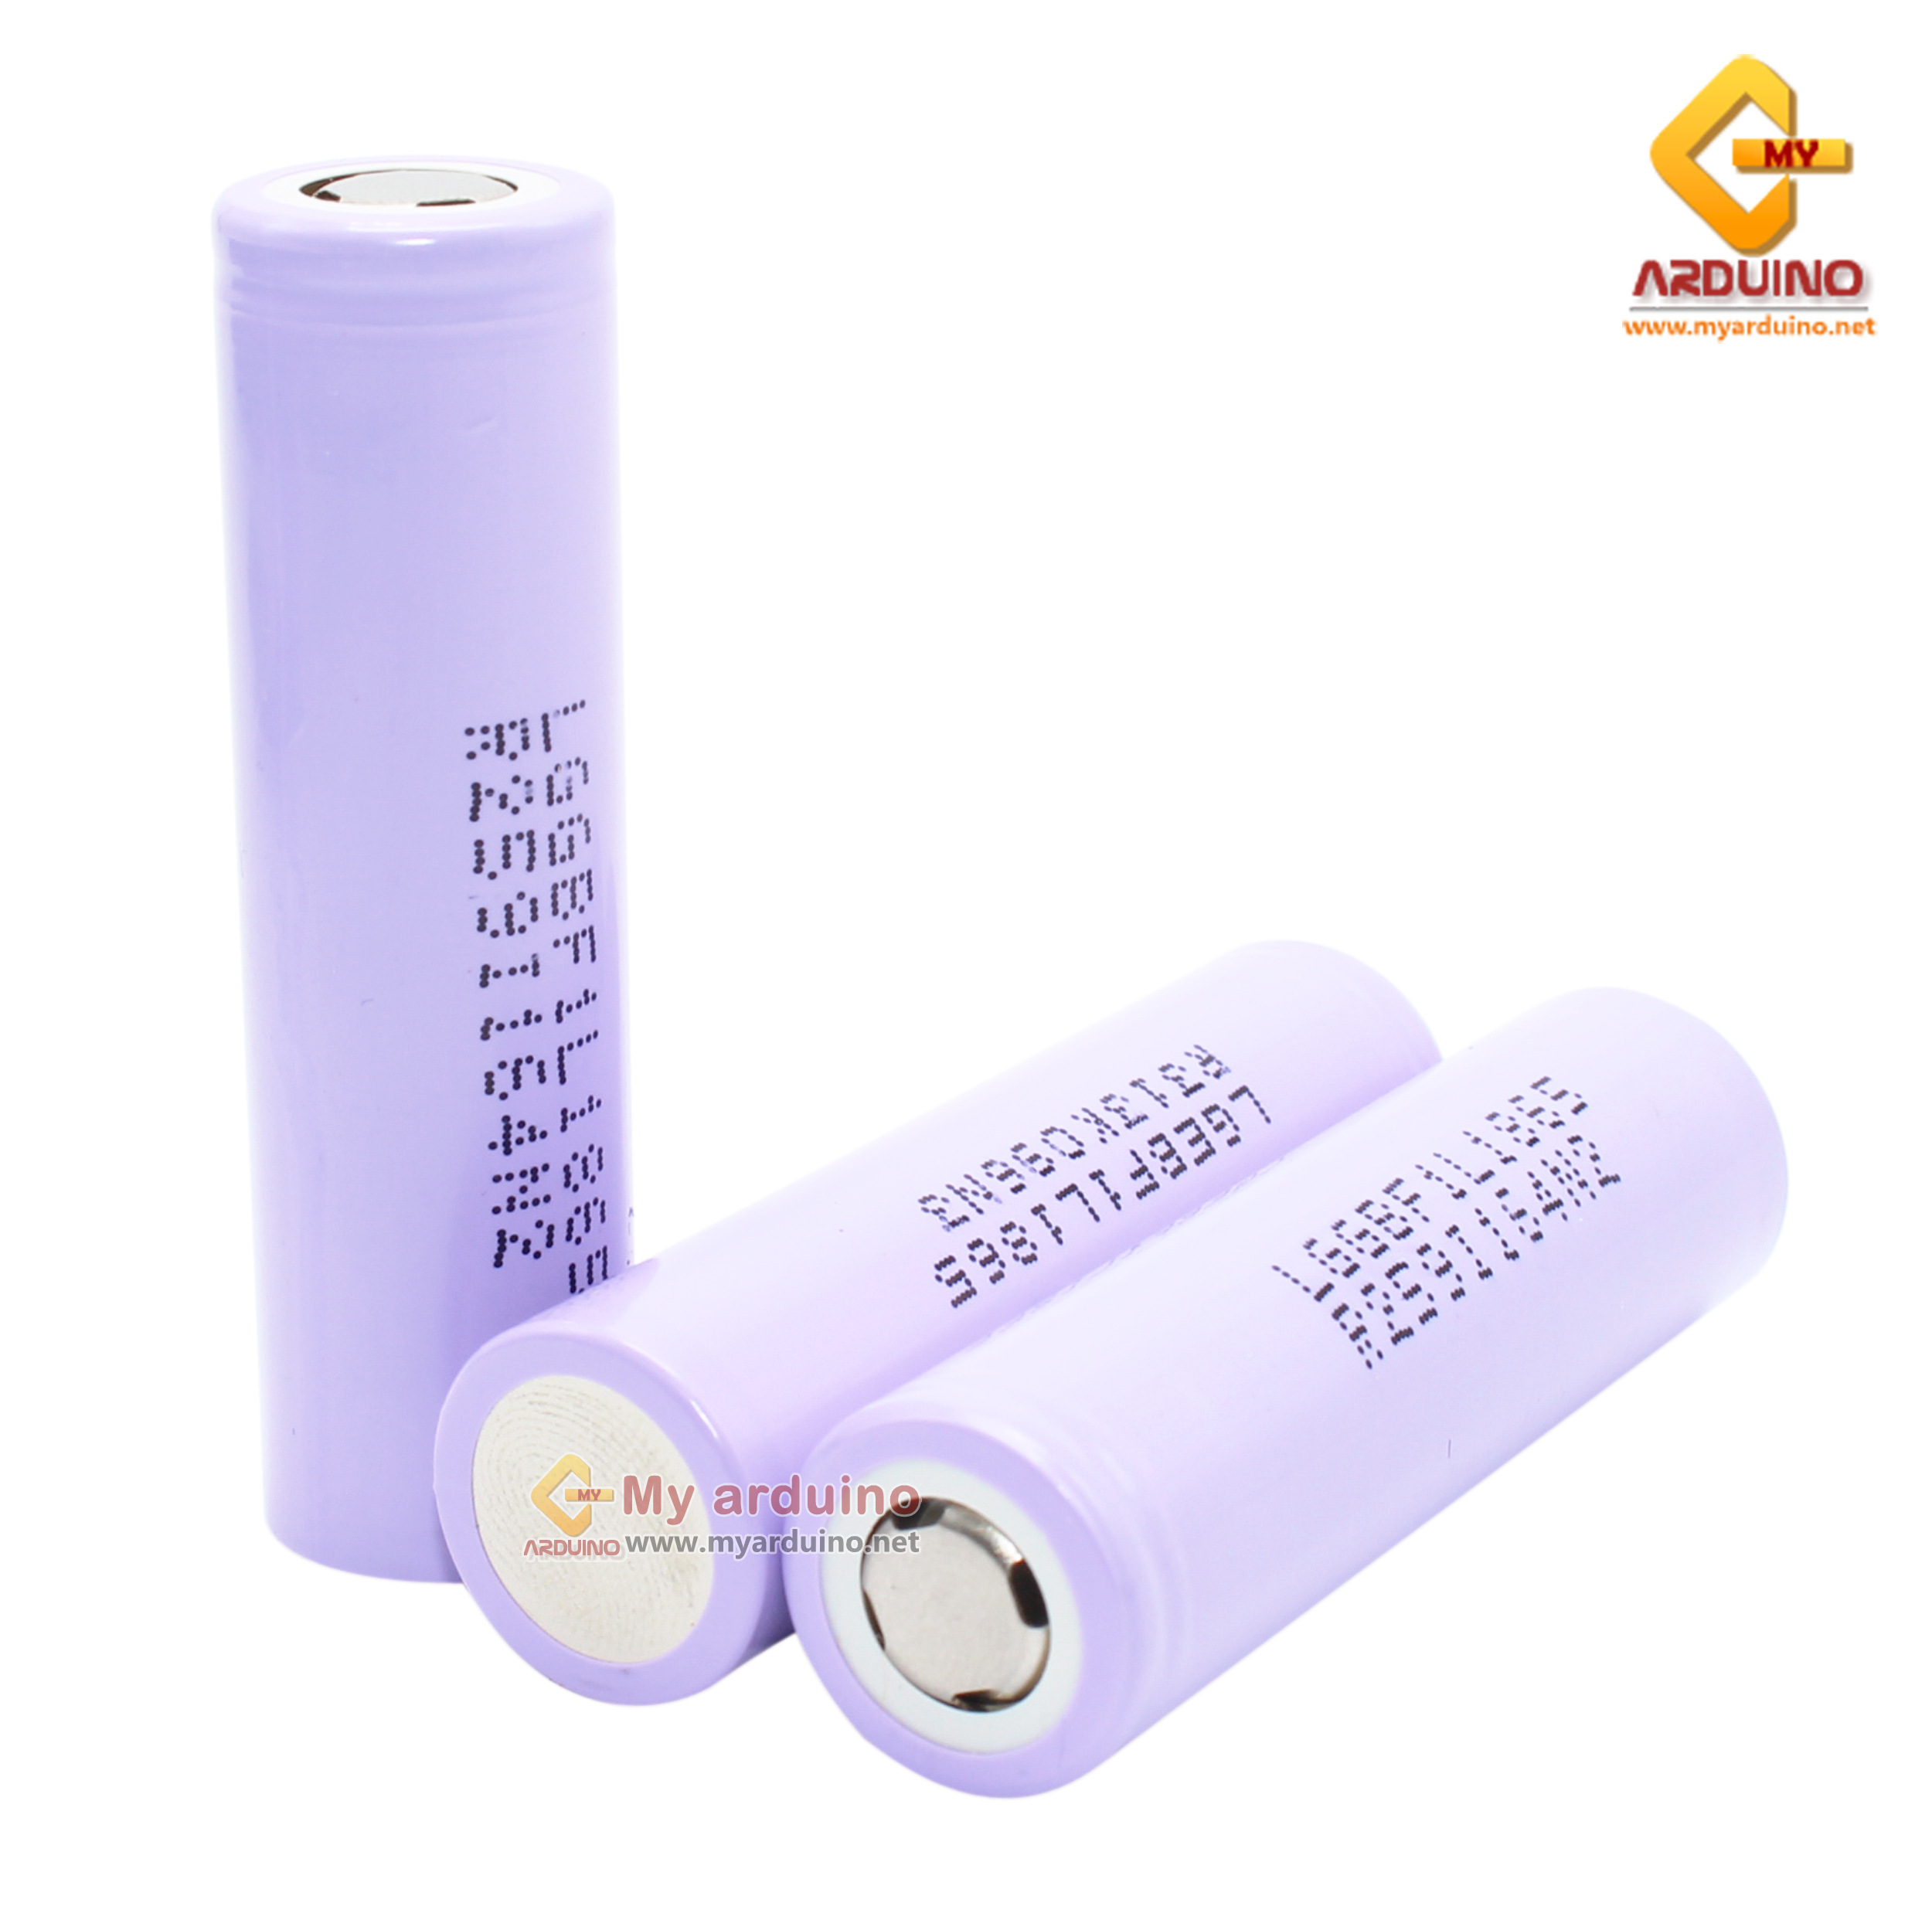Battery: (776, 983, 1798, 1806), (203, 147, 650, 1592)
